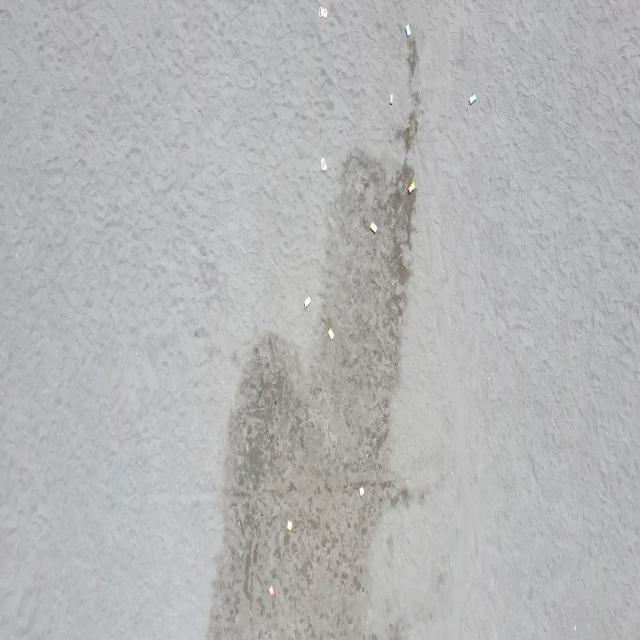Garbage: (319, 5, 327, 18), (267, 584, 275, 596), (407, 181, 415, 192), (303, 296, 310, 307), (404, 24, 411, 35), (369, 221, 375, 232), (320, 158, 326, 169), (468, 94, 475, 103), (357, 486, 364, 495), (327, 327, 332, 339), (287, 520, 292, 529), (388, 94, 392, 103)
